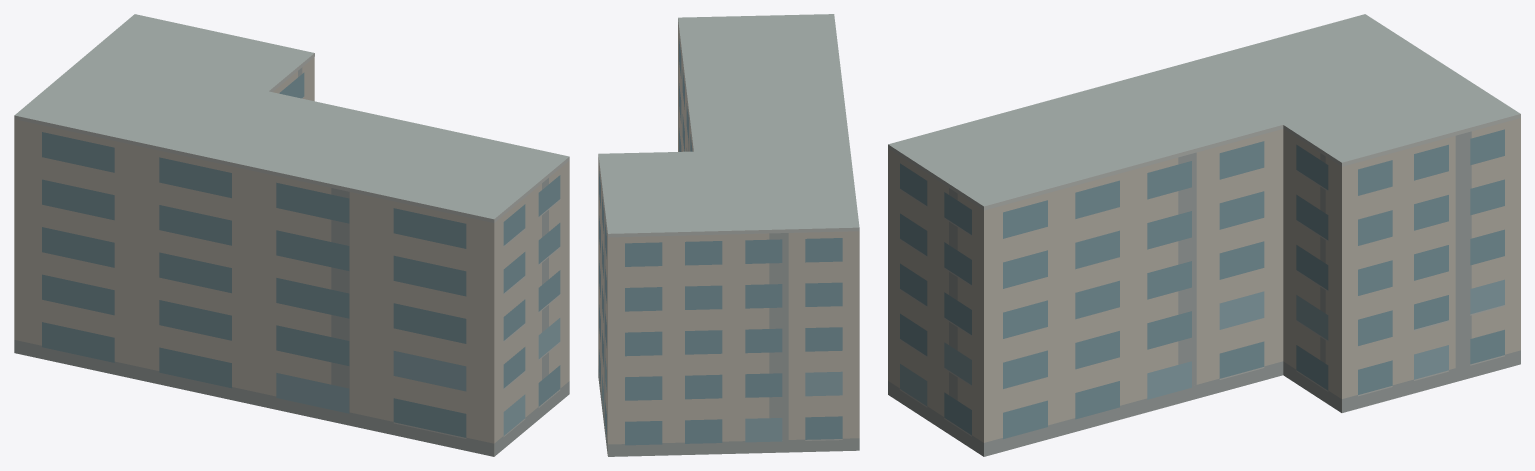
Rendered from survey-upis-32920100.glb.
3 renders of one model, left to right at view 1: azimuth 30°, elevation 25°; view 2: azimuth 150°, elevation 25°; view 3: azimuth 270°, elevation 25°, orthographic. The views are drawn at different scales.
Visible parts, largest first — view 1: survey-upis-32920100.tmp; view 2: survey-upis-32920100.tmp; view 3: survey-upis-32920100.tmp.
Boxes of the visible parts, x1,y1,x2,y2 form: survey-upis-32920100.tmp: [14, 14, 569, 456]; survey-upis-32920100.tmp: [598, 14, 859, 456]; survey-upis-32920100.tmp: [888, 14, 1520, 456].
Size of the model in its own units: 25.15 by 15.25 by 34.94.
